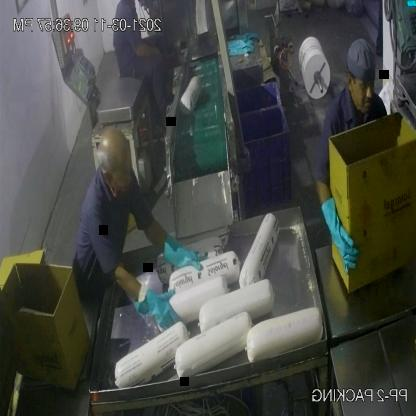glove: (134, 263, 188, 330), (319, 192, 364, 272), (164, 224, 210, 275)
